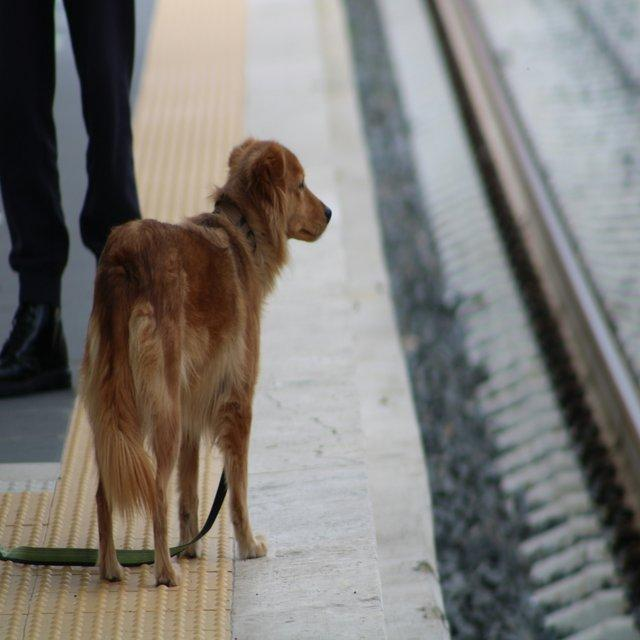retriever: (76, 135, 332, 588)
